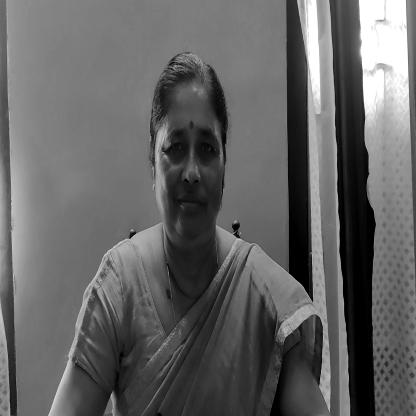Normal: (152, 54, 228, 241)
